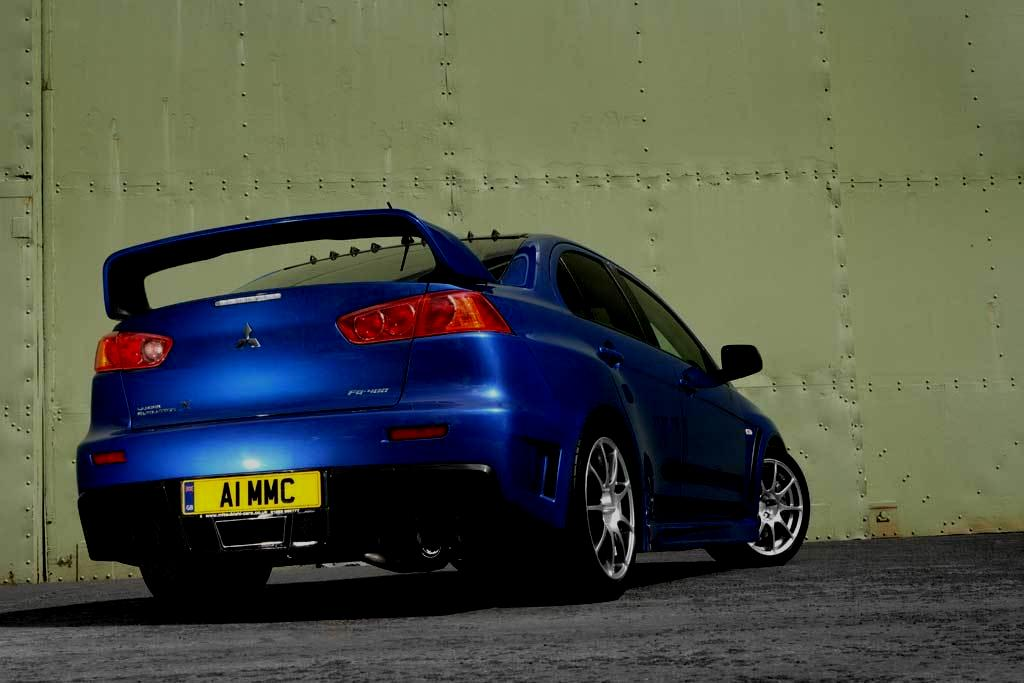Mitsubishi: (227, 319, 267, 357)
